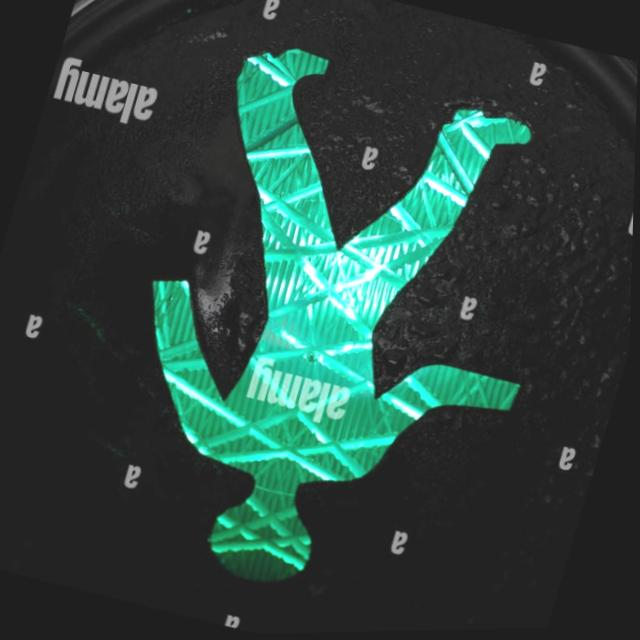green_light: (34, 6, 616, 639)
